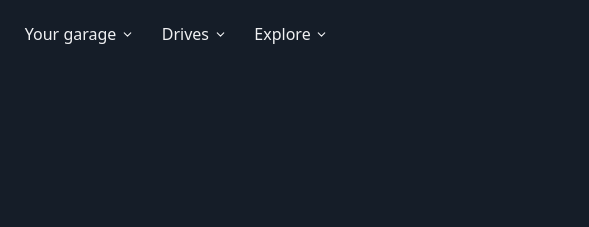
motion navigation interaction › moves into links with vertical arrows and closes when a link is selected
Press ArrowDown in the button "Your garage", box [12,12,147,56]
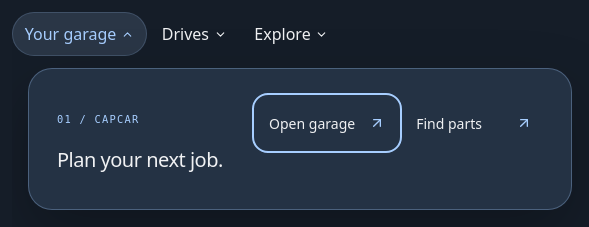
Press ArrowUp in the button "Your garage", box [12,12,147,56]
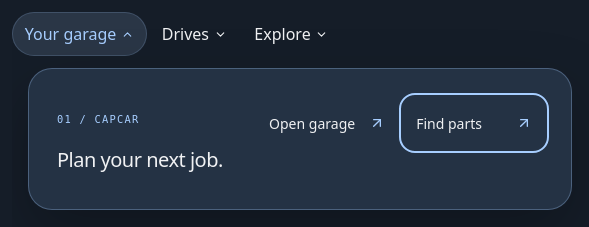
Click the link "Find parts" at {"x": 474, "y": 123}, box [416,114,532,132]
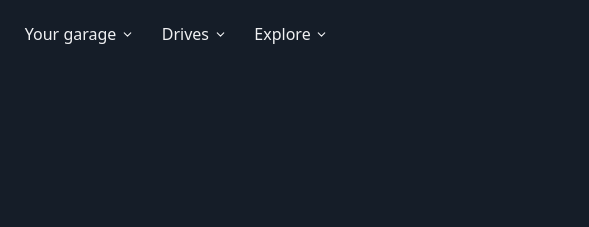
Now the button "Your garage" is collapsed, box [12,12,147,56]
